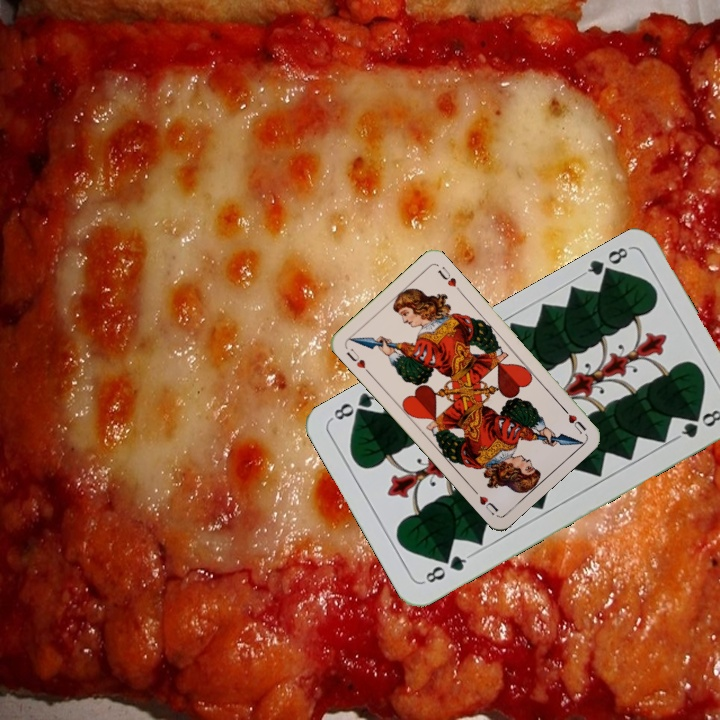G8: (578, 243, 632, 283), (419, 550, 473, 586)
HU: (342, 344, 373, 377), (558, 403, 588, 437)
